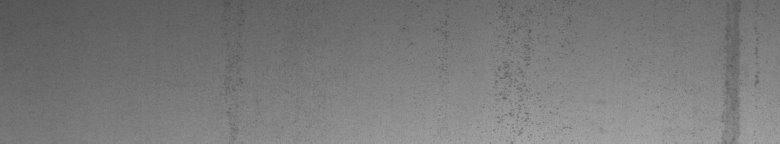ib: (436, 4, 572, 136)
